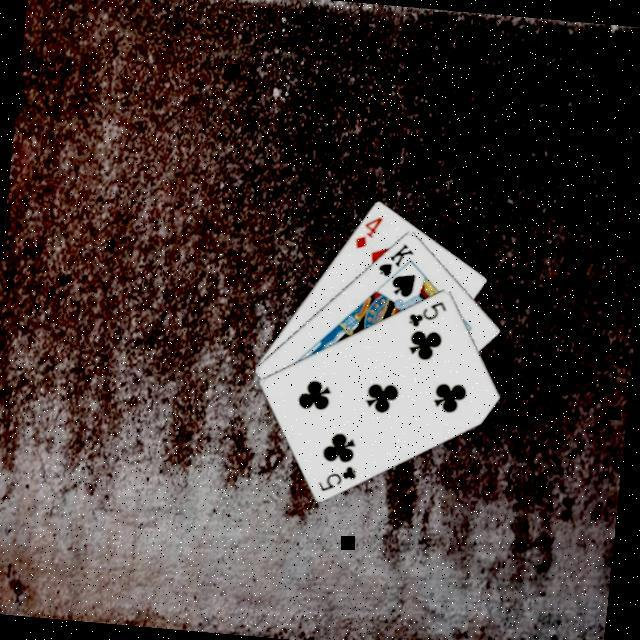4D: (352, 212, 388, 255)
5C: (316, 461, 364, 499), (407, 296, 452, 334)
KS: (376, 239, 420, 283)
